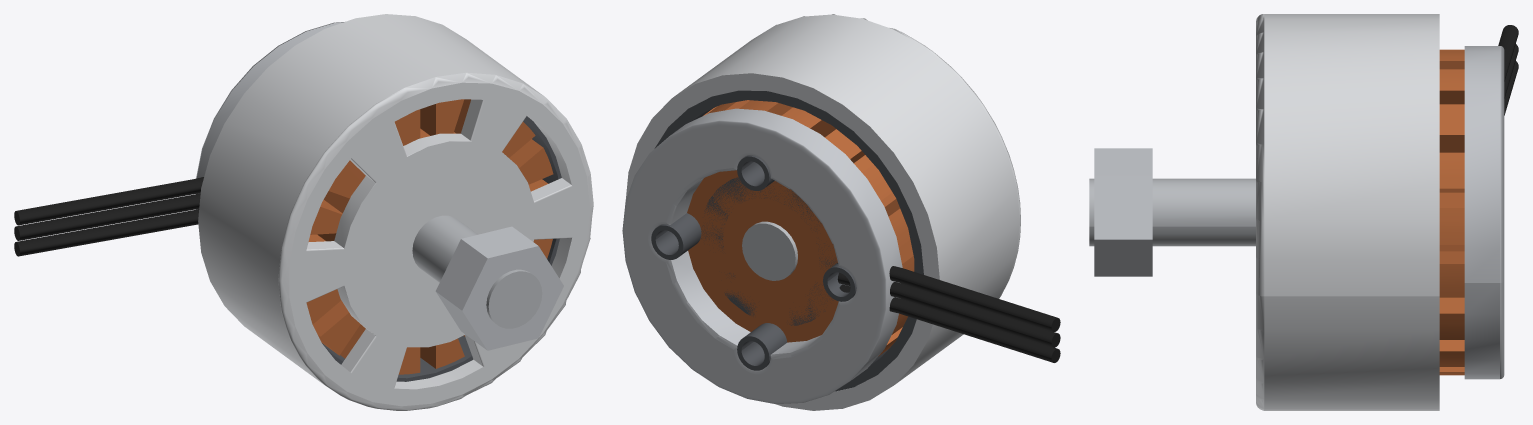
The model's file is betafpv-snow-2306-2500kv.glb.
3 renders of one model, left to right at view 1: azimuth 30°, elevation 25°; view 2: azimuth 150°, elevation 25°; view 3: azimuth 270°, elevation 25°, orthographic. The views are drawn at different scales.
Visible parts, largest first — view 1: bell, stator_windings, prop_nut, shaft, lead_3, lead_2, lead_1, base, magnets; view 2: bell, base, stator_windings, magnets, lead_2, lead_1, lead_3, shaft, stator_core, mount_hole_4, mount_hole_3, mount_hole_1 (+1 smaller); view 3: bell, base, stator_windings, prop_nut, shaft, lead_3.
Boxes of the visible parts, left/top/right/bottom form: bell: left=198, top=14, right=593, bottom=410; stator_windings: left=306, top=99, right=553, bottom=374; prop_nut: left=435, top=226, right=563, bottom=350; shaft: left=412, top=215, right=542, bottom=328; lead_3: left=14, top=177, right=203, bottom=225; lead_2: left=14, top=193, right=200, bottom=240; lead_1: left=14, top=209, right=199, bottom=256; base: left=196, top=22, right=343, bottom=209; magnets: left=322, top=116, right=561, bottom=381; bell: left=625, top=14, right=1020, bottom=410; base: left=622, top=108, right=902, bottom=404; stator_windings: left=687, top=100, right=914, bottom=356; magnets: left=654, top=90, right=923, bottom=391; lead_2: left=837, top=272, right=1060, bottom=347; lead_1: left=839, top=284, right=1060, bottom=362; lead_3: left=837, top=263, right=1060, bottom=331; shaft: left=742, top=221, right=797, bottom=280; stator_core: left=701, top=177, right=836, bottom=325; mount_hole_4: left=651, top=213, right=701, bottom=259; mount_hole_3: left=737, top=323, right=787, bottom=370; mount_hole_1: left=737, top=155, right=774, bottom=190; bell: left=1256, top=14, right=1439, bottom=410; base: left=1464, top=46, right=1504, bottom=379; stator_windings: left=1439, top=49, right=1464, bottom=375; prop_nut: left=1094, top=148, right=1152, bottom=276; shaft: left=1089, top=178, right=1255, bottom=246; lead_3: left=1498, top=25, right=1518, bottom=81.
Bounding box in the file's own units: 43.22 × 29.3 × 31.67.
